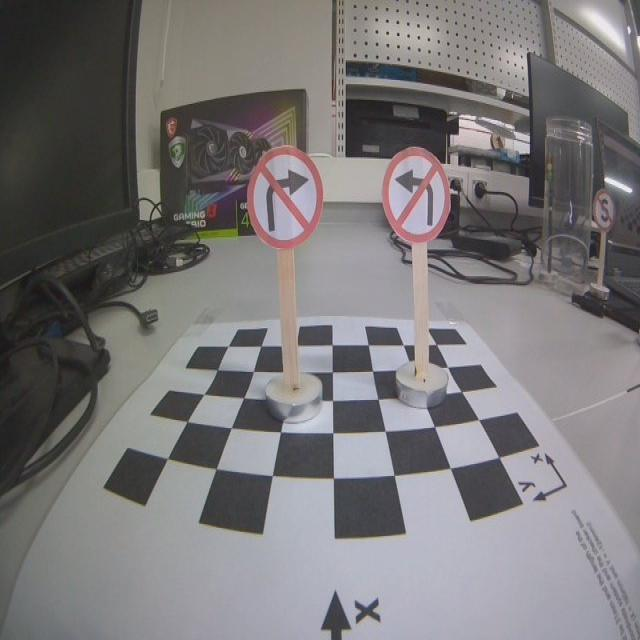Dilarang Belok Kanan: (246, 147, 322, 249)
Dilarang Belok Kiri: (378, 145, 449, 244)
